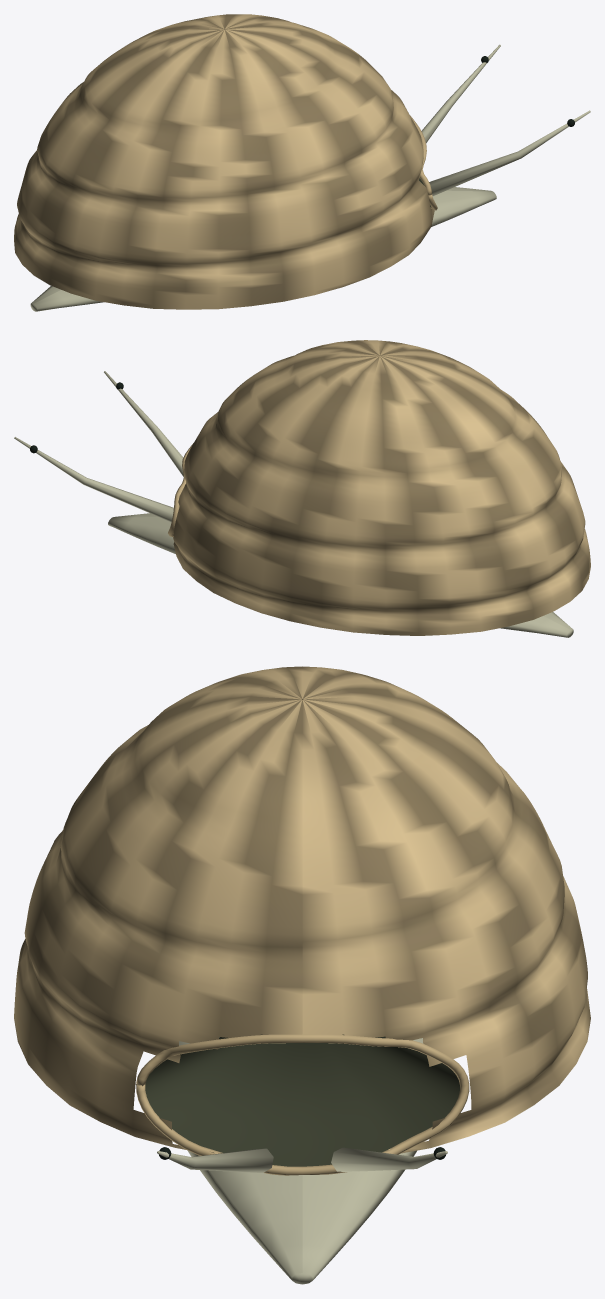
File: nerite-mobile.glb
3 views of the same model, one above another, from view 1: azimuth 30°, elevation 25°; view 2: azimuth 150°, elevation 25°; view 3: azimuth 270°, elevation 25° (orthographic). The views are drawn at different scales.
Parts seen in each view (by area): view 1: connected-whorled-shell, muscular-foot, cephalic-tentacle, aperture-lip; view 2: connected-whorled-shell, muscular-foot, cephalic-tentacle; view 3: connected-whorled-shell, recessed-aperture, muscular-foot, aperture-lip, cephalic-tentacle.
Part boxes in pixels (x1,y1,x2,y2): connected-whorled-shell: [14, 14, 434, 309]; muscular-foot: [30, 187, 496, 311]; cephalic-tentacle: [421, 44, 590, 195]; aperture-lip: [410, 115, 437, 210]; connected-whorled-shell: [172, 340, 590, 635]; muscular-foot: [108, 513, 573, 637]; cephalic-tentacle: [14, 371, 183, 522]; connected-whorled-shell: [14, 666, 590, 1153]; recessed-aperture: [145, 1034, 459, 1166]; muscular-foot: [179, 1037, 423, 1284]; aperture-lip: [136, 1034, 469, 1175]; cephalic-tentacle: [157, 1147, 447, 1172].
Size of the model in its own units: 0.5907 by 0.259 by 0.3607.
